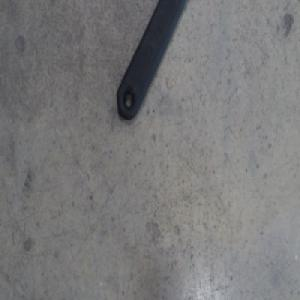AdjustableWrench: (116, 0, 181, 119)
